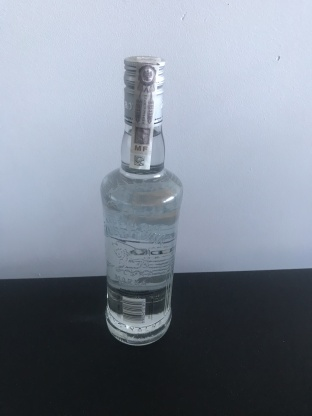nakretka: (121, 50, 168, 128)
